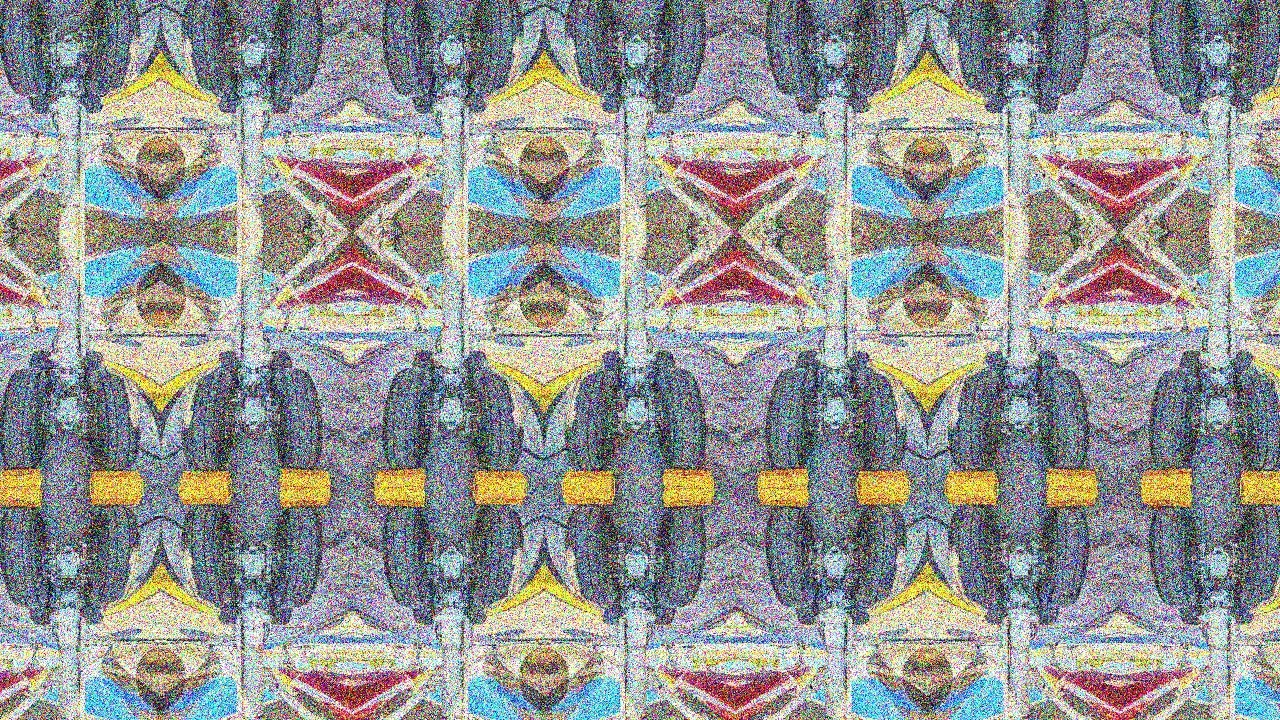chock: (279, 467, 332, 488), (372, 467, 425, 488), (663, 467, 716, 488), (756, 467, 809, 488), (1047, 467, 1100, 488), (1140, 467, 1193, 488), (279, 488, 332, 509), (372, 488, 425, 509), (663, 488, 716, 509), (756, 488, 809, 509), (1047, 488, 1100, 509), (1140, 488, 1193, 509), (89, 469, 143, 488), (177, 469, 231, 488), (473, 469, 527, 488), (561, 469, 615, 488), (857, 469, 911, 488), (945, 469, 999, 488), (89, 488, 143, 507), (177, 488, 231, 507), (473, 488, 527, 507), (561, 488, 615, 507), (857, 488, 911, 507), (945, 488, 999, 507), (0, 467, 41, 488), (0, 488, 41, 509), (1241, 469, 1280, 488), (1241, 488, 1280, 507), (34, 131, 38, 134), (282, 131, 286, 134), (418, 131, 422, 134), (666, 131, 670, 134), (802, 131, 806, 134), (1050, 131, 1054, 134), (1186, 131, 1190, 134), (34, 330, 38, 333), (282, 330, 286, 333), (418, 330, 422, 333), (666, 330, 670, 333), (802, 330, 806, 333), (1050, 330, 1054, 333), (1186, 330, 1190, 333), (34, 643, 38, 646), (282, 643, 286, 646), (418, 643, 422, 646), (666, 643, 670, 646), (802, 643, 806, 646), (1050, 643, 1054, 646), (1186, 643, 1190, 646)
wheel: (86, 368, 139, 469), (181, 368, 234, 469), (470, 368, 523, 469), (565, 368, 618, 469), (854, 368, 907, 469), (949, 368, 1002, 469), (86, 507, 139, 608), (181, 507, 234, 608), (470, 507, 523, 608), (565, 507, 618, 608), (854, 507, 907, 608), (949, 507, 1002, 608), (86, 0, 139, 96), (181, 0, 234, 96), (470, 0, 523, 96), (565, 0, 618, 96), (854, 0, 907, 96), (949, 0, 1002, 96), (272, 368, 322, 467), (382, 368, 432, 467), (656, 368, 706, 467), (766, 368, 816, 467), (1040, 368, 1090, 467), (1150, 368, 1200, 467), (272, 509, 322, 608), (382, 509, 432, 608), (656, 509, 706, 608), (766, 509, 816, 608), (1040, 509, 1090, 608), (1150, 509, 1200, 608), (272, 0, 322, 96), (382, 0, 432, 96), (656, 0, 706, 96), (766, 0, 816, 96), (1040, 0, 1090, 96), (1150, 0, 1200, 96), (0, 368, 48, 467), (0, 509, 48, 608), (0, 0, 48, 96), (1238, 368, 1280, 469), (1238, 507, 1280, 608), (1238, 0, 1280, 96), (27, 74, 52, 114), (268, 74, 293, 114), (411, 74, 436, 114), (652, 74, 677, 114), (795, 74, 820, 114), (1036, 74, 1061, 114), (1179, 74, 1204, 114), (27, 350, 52, 390), (268, 350, 293, 390), (411, 350, 436, 390), (652, 350, 677, 390), (795, 350, 820, 390), (1036, 350, 1061, 390), (1179, 350, 1204, 390), (27, 586, 52, 626), (268, 586, 293, 626), (411, 586, 436, 626), (652, 586, 677, 626), (795, 586, 820, 626), (1036, 586, 1061, 626), (1179, 586, 1204, 626), (81, 77, 104, 114), (216, 77, 239, 114), (465, 77, 488, 114), (600, 77, 623, 114), (849, 77, 872, 114), (984, 77, 1007, 114), (1233, 77, 1256, 114), (81, 350, 104, 387), (216, 350, 239, 387), (465, 350, 488, 387), (600, 350, 623, 387), (849, 350, 872, 387), (984, 350, 1007, 387), (1233, 350, 1256, 387), (81, 589, 104, 626), (216, 589, 239, 626), (465, 589, 488, 626), (600, 589, 623, 626), (849, 589, 872, 626), (984, 589, 1007, 626), (1233, 589, 1256, 626), (29, 132, 33, 138), (287, 132, 291, 138), (413, 132, 417, 138), (671, 132, 675, 138), (797, 132, 801, 138), (1055, 132, 1059, 138), (1181, 132, 1185, 138), (29, 326, 33, 332), (287, 326, 291, 332), (413, 326, 417, 332), (671, 326, 675, 332), (797, 326, 801, 332), (1055, 326, 1059, 332), (1181, 326, 1185, 332), (29, 644, 33, 650), (287, 644, 291, 650), (413, 644, 417, 650), (671, 644, 675, 650), (797, 644, 801, 650), (1055, 644, 1059, 650), (1181, 644, 1185, 650), (34, 133, 38, 138), (282, 133, 286, 138), (418, 133, 422, 138), (666, 133, 670, 138), (802, 133, 806, 138), (1050, 133, 1054, 138), (1186, 133, 1190, 138), (34, 326, 38, 331), (282, 326, 286, 331), (418, 326, 422, 331), (666, 326, 670, 331), (802, 326, 806, 331), (1050, 326, 1054, 331), (1186, 326, 1190, 331), (34, 645, 38, 650), (282, 645, 286, 650), (418, 645, 422, 650), (666, 645, 670, 650), (802, 645, 806, 650), (1050, 645, 1054, 650), (1186, 645, 1190, 650)
